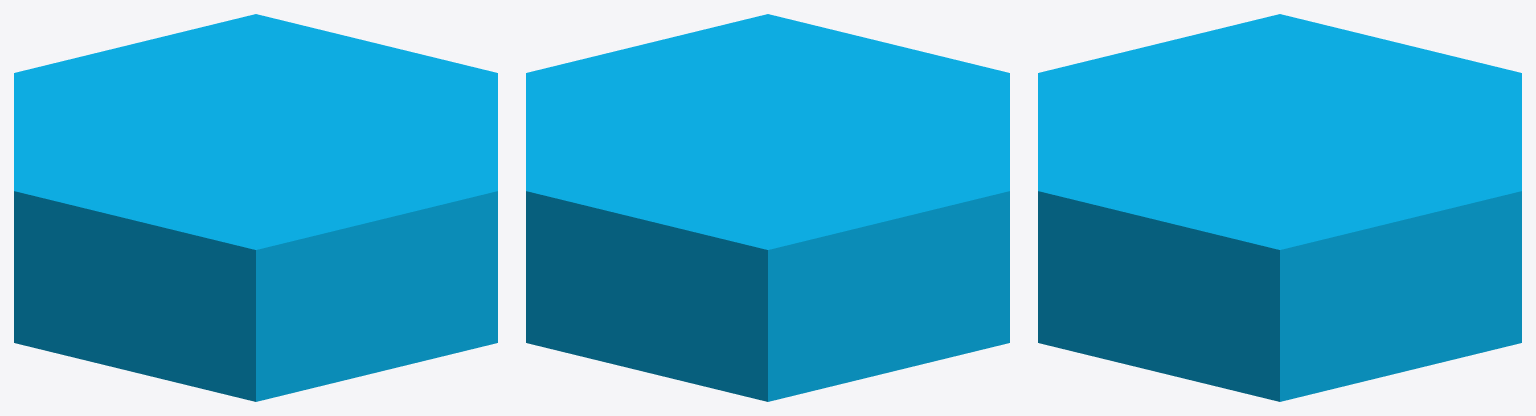
File: 2B_den_3B_ye_cokgen.gltf
The picture shows the model from 3 angles, left to right: view 1: azimuth 30°, elevation 25°; view 2: azimuth 150°, elevation 25°; view 3: azimuth 270°, elevation 25°; orthographic projection.
Parts seen in each view (by area): view 1: Gövde; view 2: Gövde; view 3: Gövde.
Part boxes in pixels (left/top/right/bottom): Gövde: left=14, top=14, right=497, bottom=401; Gövde: left=526, top=14, right=1009, bottom=401; Gövde: left=1038, top=14, right=1521, bottom=401.
Size of the model in its own units: 0.04 by 0.012 by 0.0346.
